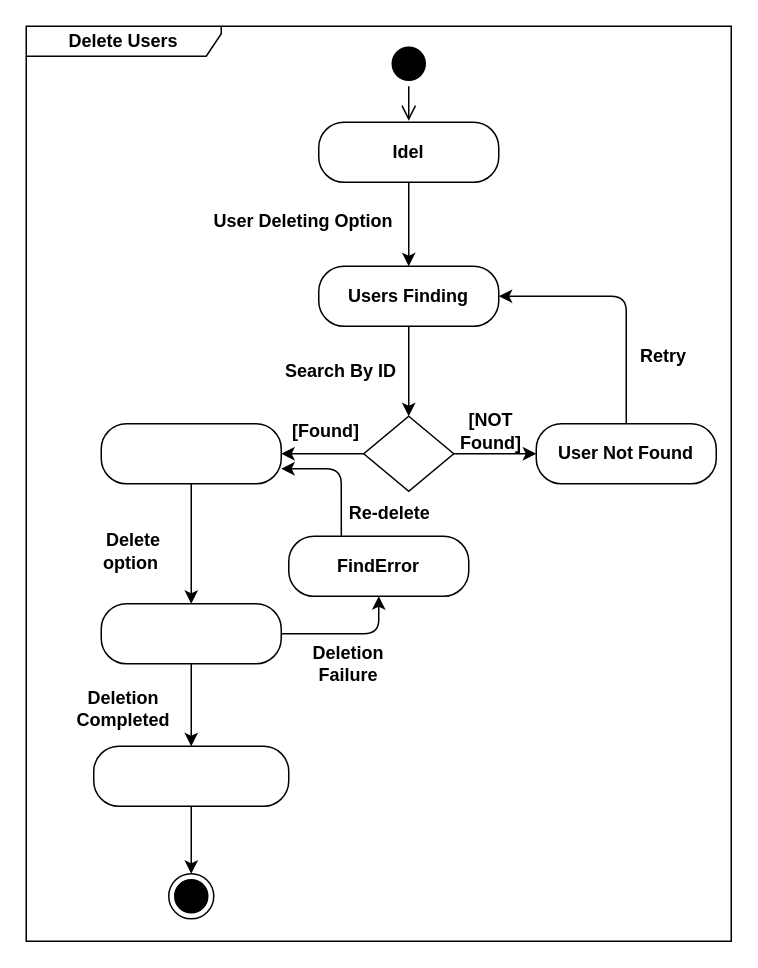
The diagram is 758 pixels wide and 968 high, and some of its shapes have lost their labels. The shapes that lost their labels are listed below. From the top down, each one's centre as x and y in pixels, then its label:
At point 190,453: "User Found & Delete".
At point 190,633: "Deleting".
At point 190,775: "Successful Deletion".
